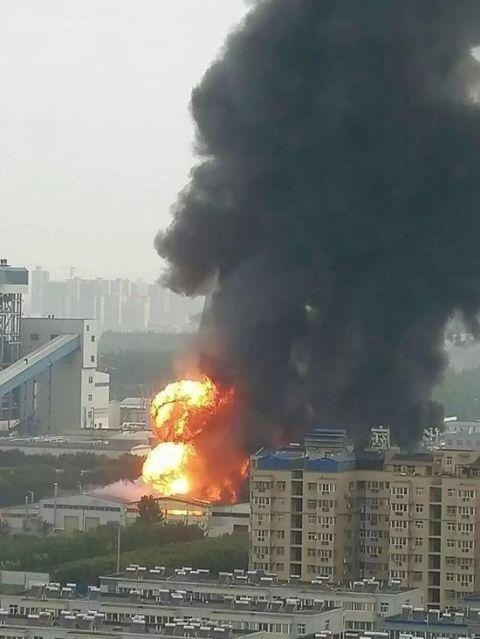fire: (143, 373, 233, 497)
